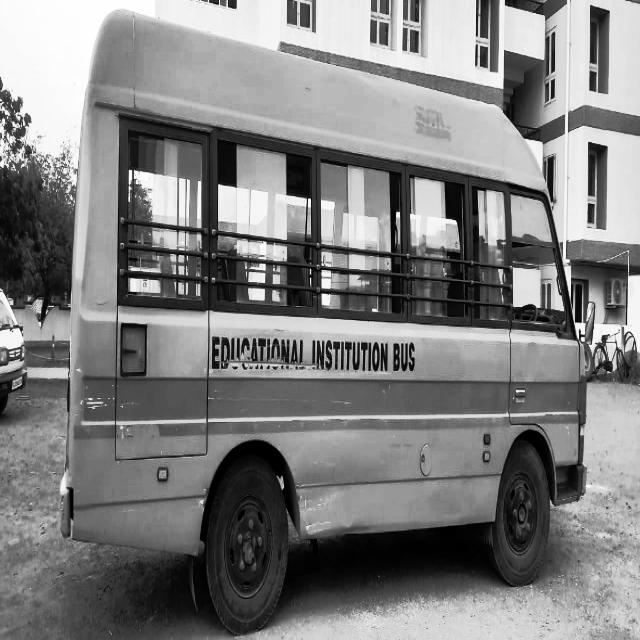Bus: (66, 7, 593, 638)
